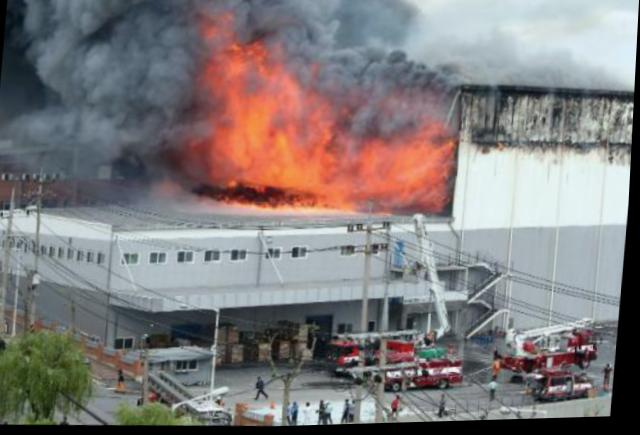fire: (200, 38, 287, 185), (317, 129, 453, 211), (281, 96, 340, 191)
smoke: (0, 0, 201, 187), (304, 36, 627, 98), (407, 0, 639, 53), (243, 0, 411, 46)
